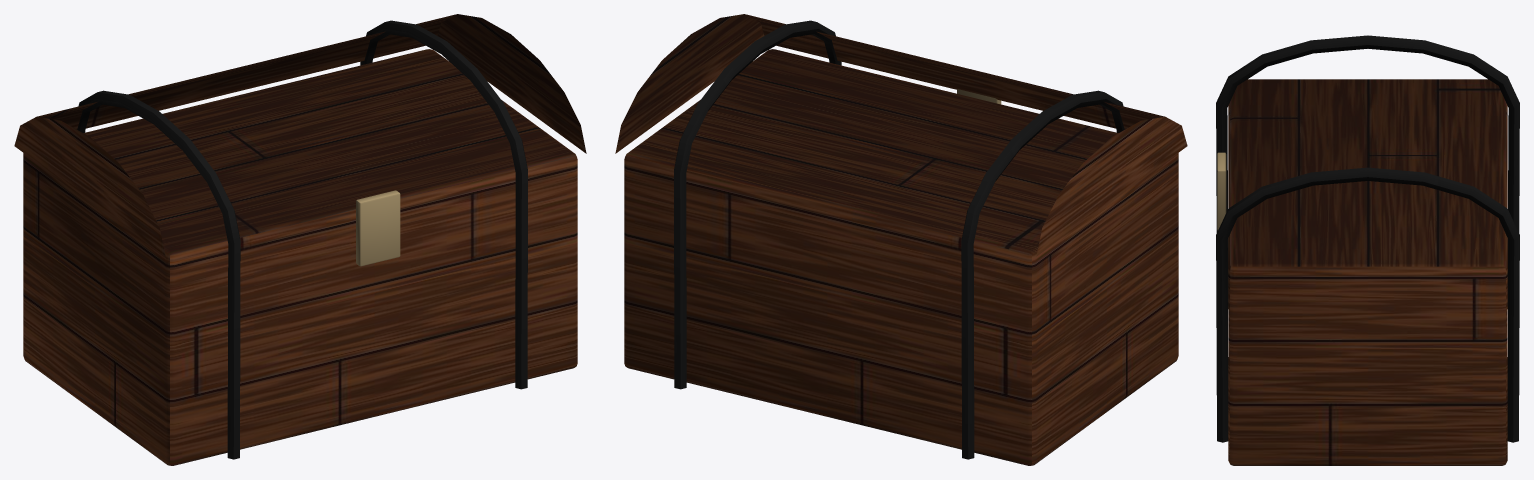
Rendered from seachest.glb.
3 renders of one model, left to right at view 1: azimuth 30°, elevation 25°; view 2: azimuth 150°, elevation 25°; view 3: azimuth 270°, elevation 25°, orthographic. The views are drawn at different scales.
Visible parts, largest first — view 1: boat_house, boat_iron, boat_brass; view 2: boat_house, boat_iron; view 3: boat_house, boat_iron, boat_brass.
Boxes of the visible parts, box(x1,y1,x2,y2) form: boat_house: box(14, 14, 586, 465); boat_iron: box(77, 20, 527, 459); boat_brass: box(356, 190, 400, 266); boat_house: box(615, 14, 1187, 465); boat_iron: box(674, 20, 1124, 459); boat_house: box(1228, 79, 1507, 465); boat_iron: box(1216, 35, 1519, 442); boat_brass: box(1217, 152, 1226, 230).
Size of the model in its own units: 0.82 by 0.5354 by 0.5444.
3 materials, 2 textured.
